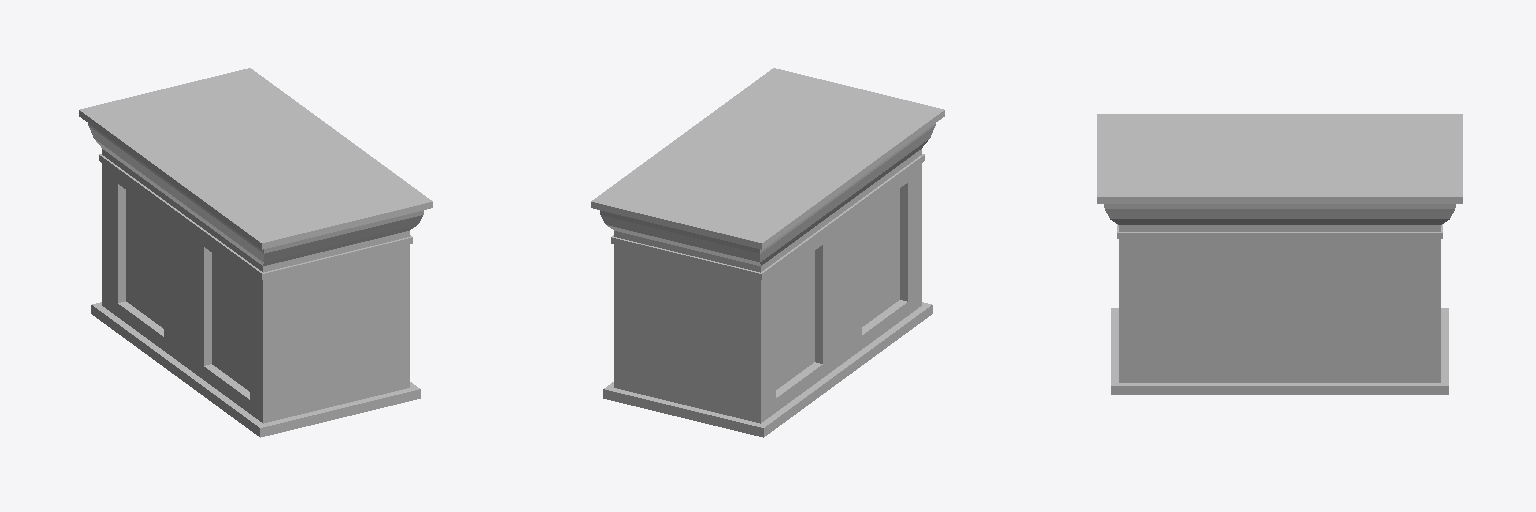
Rendered from desk.obj.
3 views of the same model, side by side, from view 1: azimuth 30°, elevation 25°; view 2: azimuth 150°, elevation 25°; view 3: azimuth 270°, elevation 25° (orthographic).
Visible parts, largest first — view 1: polySurface2706 polySurface2695; view 2: polySurface2706 polySurface2695; view 3: polySurface2706 polySurface2695.
Part boxes in pixels (left/top/right/bottom): polySurface2706 polySurface2695: left=79, top=68, right=432, bottom=437; polySurface2706 polySurface2695: left=591, top=68, right=944, bottom=437; polySurface2706 polySurface2695: left=1097, top=114, right=1462, bottom=394.
Bounding box in the file's own units: 0.7801 × 0.8726 × 1.44.